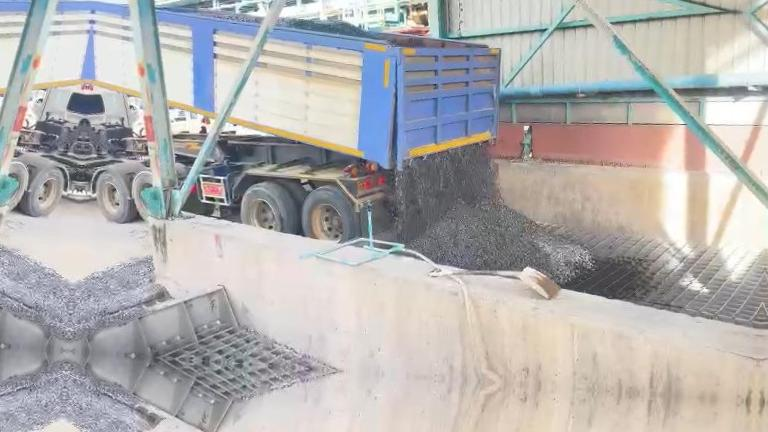gravel: (395, 145, 593, 283), (69, 257, 166, 339), (277, 18, 386, 40), (167, 9, 262, 23)
